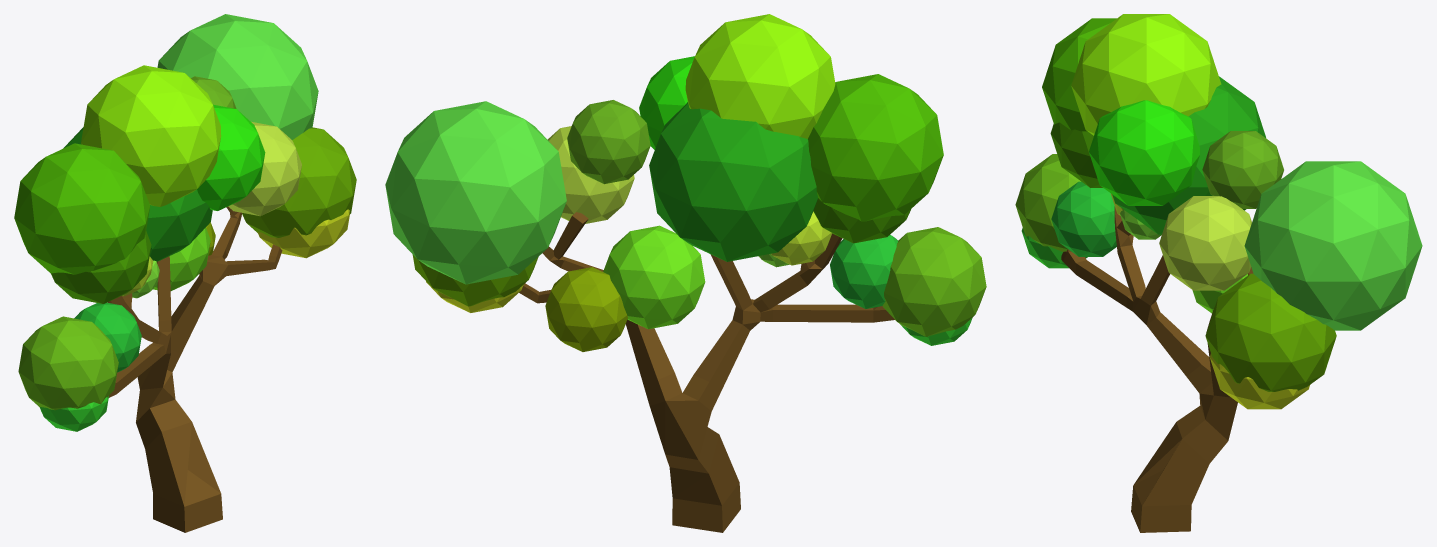
Rendered from tree_1.glb.
3 views of the same model, side by side, from view 1: azimuth 30°, elevation 25°; view 2: azimuth 150°, elevation 25°; view 3: azimuth 270°, elevation 25° (orthographic). The views are drawn at different scales.
Parts seen in each view (by area): view 1: Leaves, Trunk; view 2: Leaves, Trunk; view 3: Leaves, Trunk.
Part boxes in pixels (bbox=[...]): Leaves: bbox=[14, 14, 356, 431]; Trunk: bbox=[108, 206, 282, 532]; Leaves: bbox=[385, 14, 986, 351]; Trunk: bbox=[519, 212, 894, 532]; Leaves: bbox=[1015, 14, 1422, 409]; Trunk: bbox=[1061, 206, 1253, 532].
Size of the model in its own units: 1.43 by 1.52 by 1.16.
